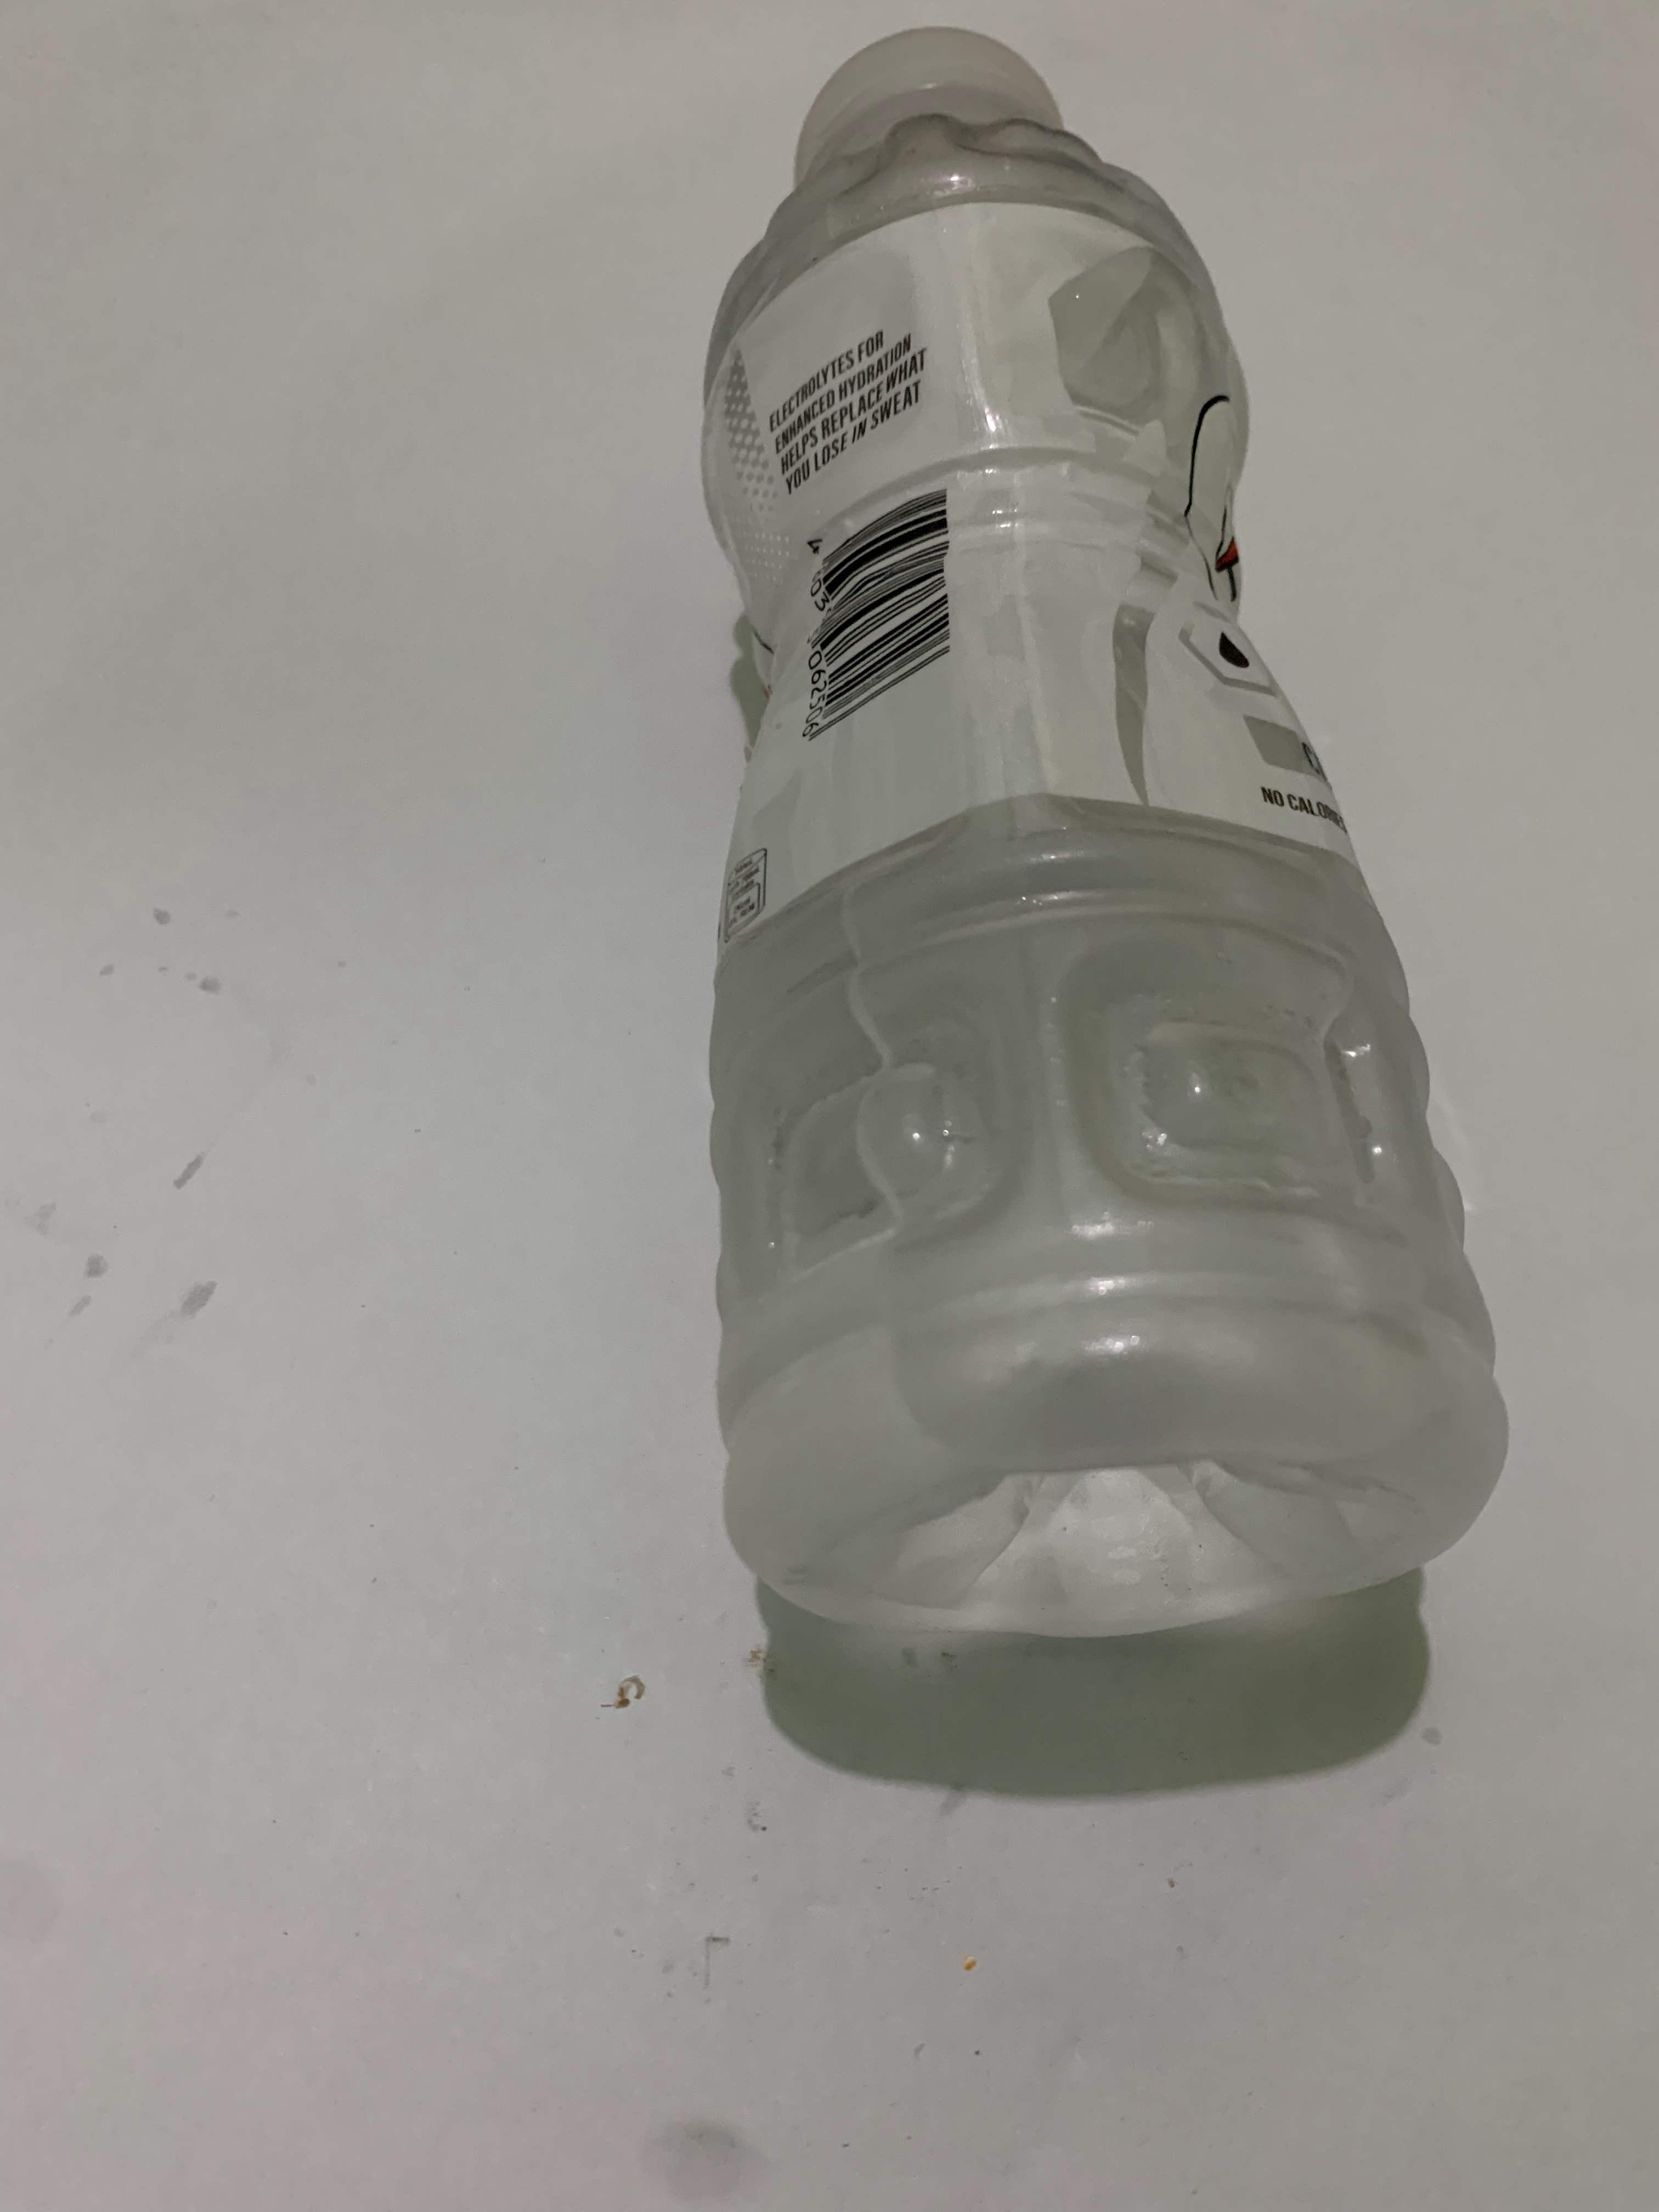bottle: (692, 10, 1520, 1644)
